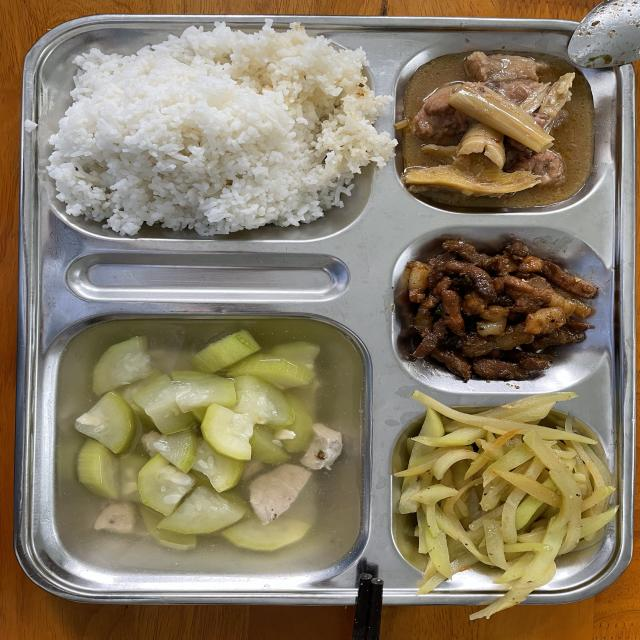com_trang: (62, 27, 350, 229)
thit_kho: (421, 58, 582, 201), (414, 245, 588, 374)
